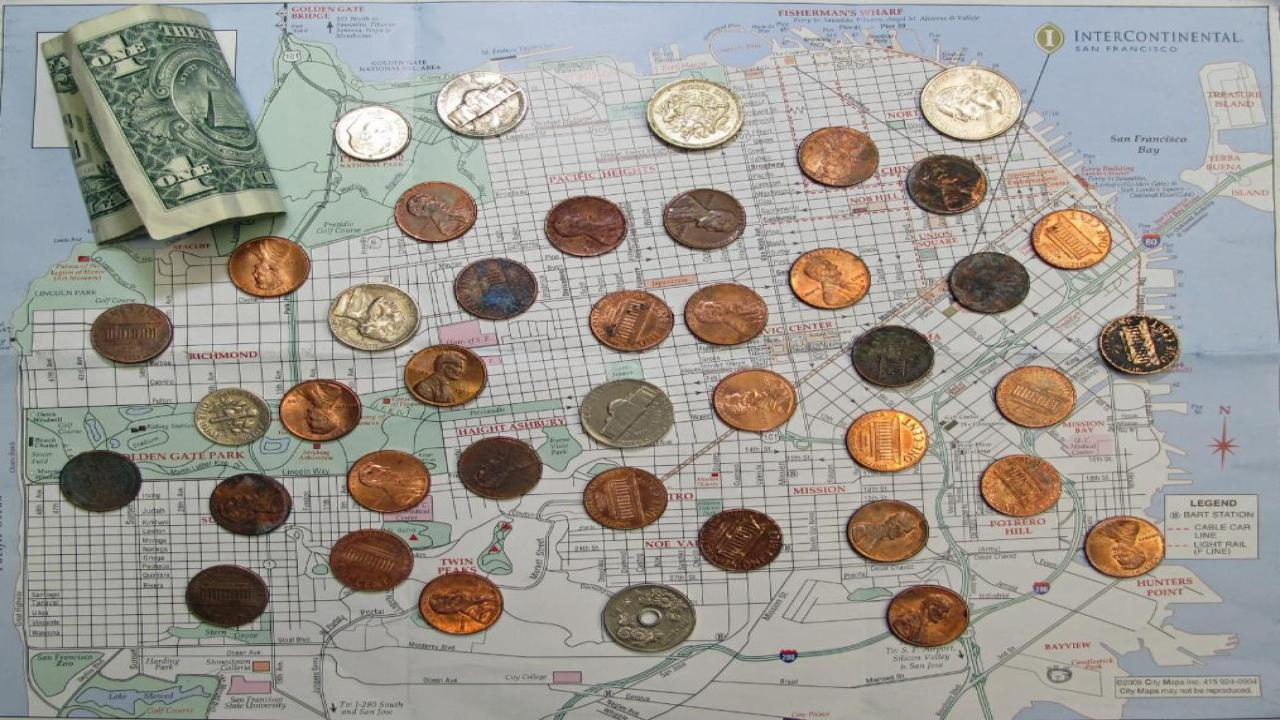coin: (923, 64, 1025, 142), (644, 78, 743, 151), (578, 376, 675, 448), (326, 282, 422, 352), (432, 72, 526, 139), (602, 583, 694, 651), (344, 449, 434, 517), (279, 378, 365, 445), (404, 342, 489, 409), (659, 187, 745, 253), (711, 367, 798, 432), (697, 507, 784, 572), (686, 280, 770, 347), (418, 569, 503, 635), (456, 436, 545, 499), (980, 451, 1060, 520), (582, 467, 669, 530), (846, 408, 931, 472), (208, 473, 294, 536), (849, 324, 936, 386), (994, 364, 1074, 431), (59, 449, 144, 512), (89, 302, 174, 364), (452, 258, 537, 320), (544, 194, 629, 256), (1086, 515, 1168, 579), (228, 235, 312, 297), (906, 153, 990, 215), (184, 564, 269, 625), (788, 246, 870, 309), (846, 497, 927, 560), (588, 290, 673, 350), (949, 252, 1032, 313), (1098, 314, 1182, 374), (797, 124, 878, 186), (330, 530, 412, 591), (192, 385, 272, 447), (1034, 210, 1114, 271), (396, 181, 476, 242), (889, 582, 965, 646), (336, 106, 411, 160)
